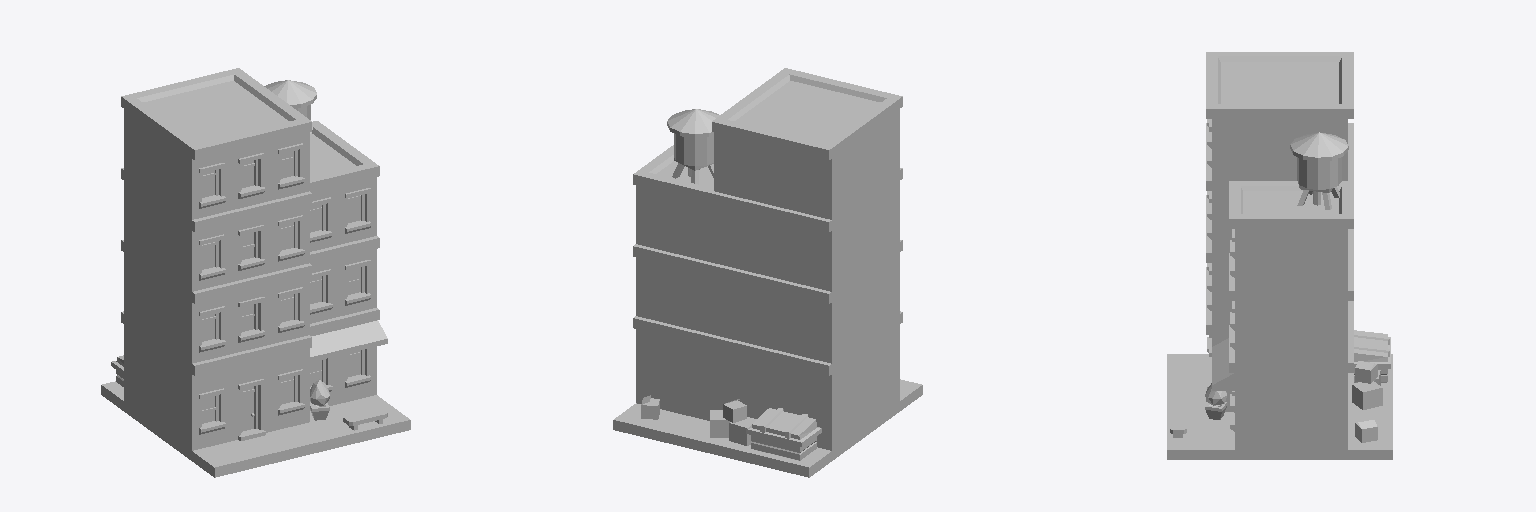
File: building_H.obj
3 renders of one model, left to right at view 1: azimuth 30°, elevation 25°; view 2: azimuth 150°, elevation 25°; view 3: azimuth 270°, elevation 25°, orthographic.
Parts seen in each view (by area): view 1: building_H_Cube.931; view 2: building_H_Cube.931; view 3: building_H_Cube.931.
Part boxes in pixels (x1,y1,x2,y2): building_H_Cube.931: (101,68,410,477); building_H_Cube.931: (613,68,922,477); building_H_Cube.931: (1167,52,1392,459).
Bounding box in the file's own units: 2.01 × 3.05 × 2.